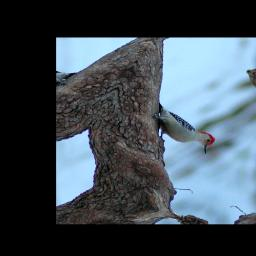Woodpecker: (137, 102, 227, 156)
